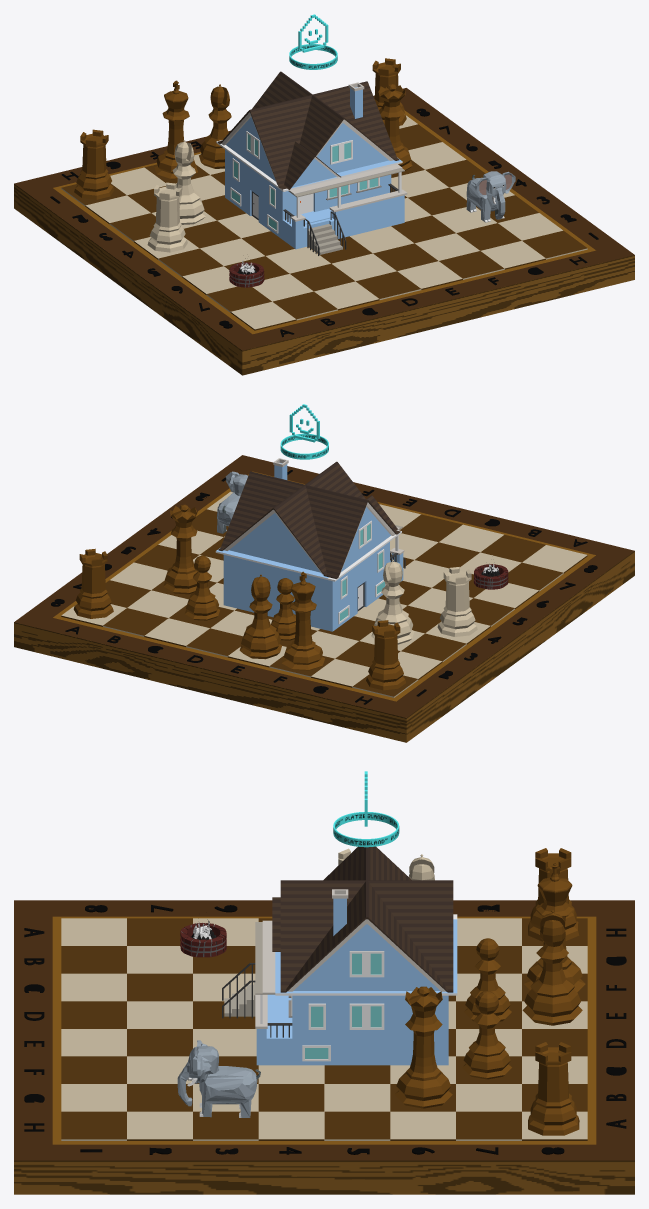
3 renders of one model, top to bottom at view 1: azimuth 30°, elevation 25°; view 2: azimuth 150°, elevation 25°; view 3: azimuth 270°, elevation 25°, orthographic. The views are drawn at different scales.
Visible parts, largest first — view 1: Cube.002, Cube.1594, ANIMAL_ELEFANTE, TYPE_PREMIUM, OBJRANDOM_CAMPFIRE; view 2: Cube.002, Cube.1594, TYPE_PREMIUM, ANIMAL_ELEFANTE, OBJRANDOM_CAMPFIRE; view 3: Cube.002, Cube.1594, ANIMAL_ELEFANTE, OBJRANDOM_CAMPFIRE, TYPE_PREMIUM.
Boxes of the visible parts, bbox=[...] form: Cube.002: bbox=[14, 58, 634, 375]; Cube.1594: bbox=[216, 71, 407, 255]; ANIMAL_ELEFANTE: bbox=[466, 171, 515, 222]; TYPE_PREMIUM: bbox=[289, 14, 337, 69]; OBJRANDOM_CAMPFIRE: bbox=[229, 258, 264, 287]; Cube.002: bbox=[14, 455, 634, 742]; Cube.1594: bbox=[215, 458, 405, 631]; TYPE_PREMIUM: bbox=[280, 404, 328, 459]; ANIMAL_ELEFANTE: bbox=[217, 471, 247, 533]; OBJRANDOM_CAMPFIRE: bbox=[473, 563, 508, 589]; Cube.002: bbox=[14, 848, 634, 1194]; Cube.1594: bbox=[222, 846, 457, 1065]; ANIMAL_ELEFANTE: bbox=[177, 1040, 260, 1117]; OBJRANDOM_CAMPFIRE: bbox=[180, 919, 226, 957]; TYPE_PREMIUM: bbox=[333, 771, 399, 847].
Bounding box in the file's own units: 3981 × 2201 × 4012.
31 materials, 4 textured.
